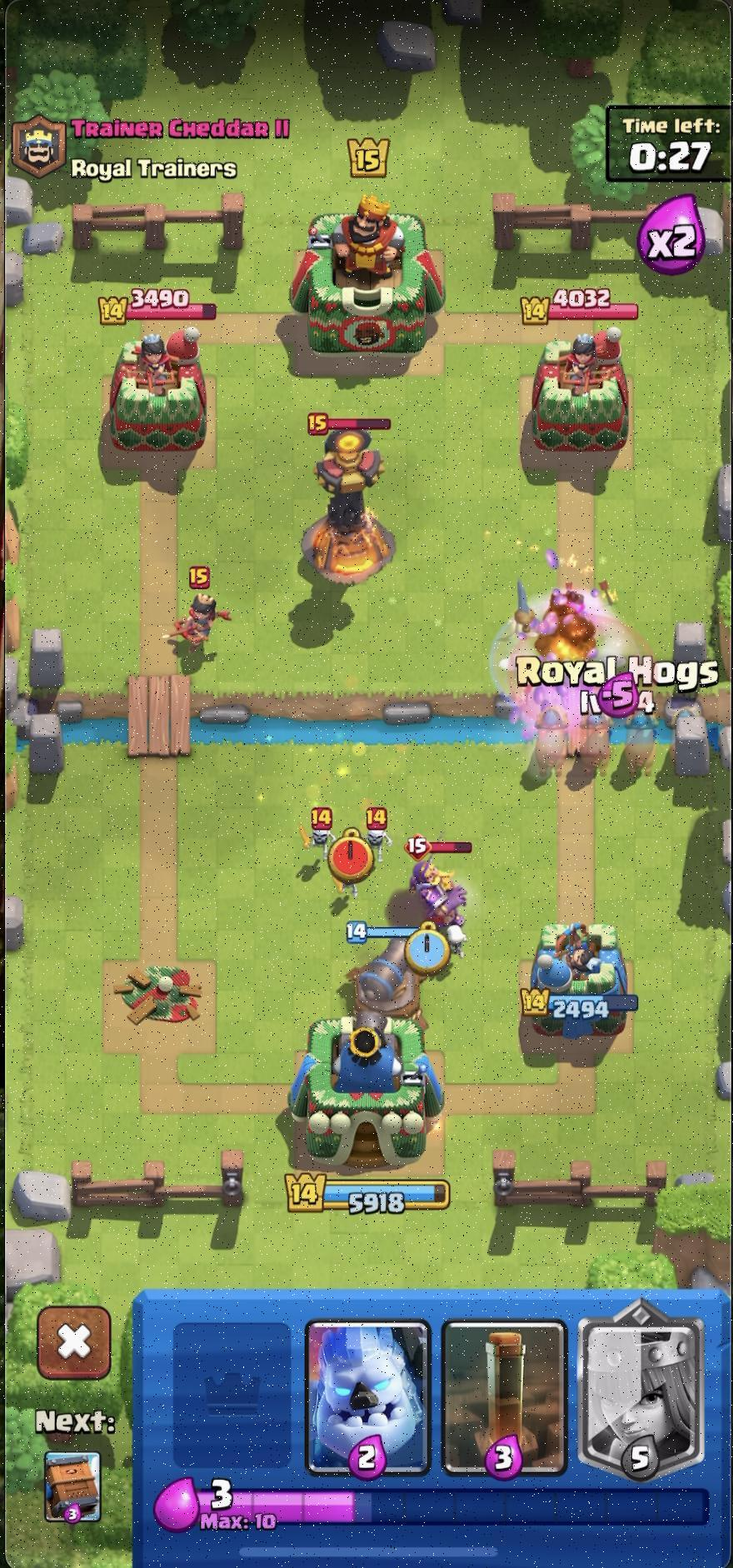card_archerqueen: (576, 1296, 705, 1479)
card_earthquake: (442, 1316, 568, 1481)
card_icegolem: (309, 1316, 429, 1476)
card_royaldelivery: (38, 1443, 108, 1526)
